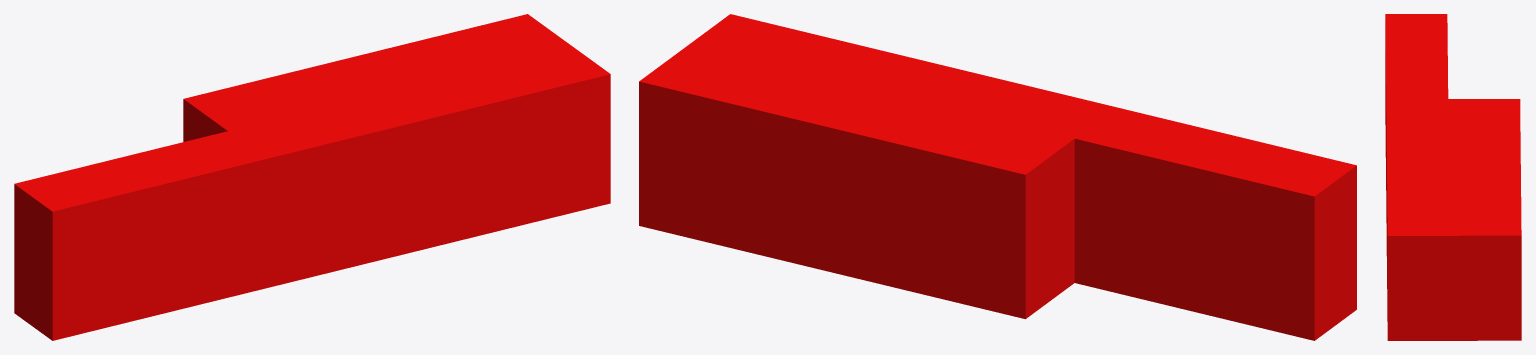
File: BosquesdelasVictorias_Dummys_INV_Mz2.fbx
3 views of the same model, side by side, from view 1: azimuth 30°, elevation 25°; view 2: azimuth 150°, elevation 25°; view 3: azimuth 270°, elevation 25° (orthographic). The views are drawn at different scales.
Parts seen in each view (by area): view 1: Cube__2_, Cube__3_; view 2: Cube__2_, Cube__3_; view 3: Cube__2_, Cube__3_.
Boxes of the visible parts, box(x1,y1,x2,y2) form: Cube__2_: box(183, 14, 610, 288); Cube__3_: box(14, 46, 609, 340); Cube__2_: box(639, 14, 1115, 319); Cube__3_: box(689, 15, 1356, 340); Cube__2_: box(1386, 99, 1521, 340); Cube__3_: box(1385, 14, 1449, 340).
Size of the model in its own units: 7096 by 1566 by 1839.
